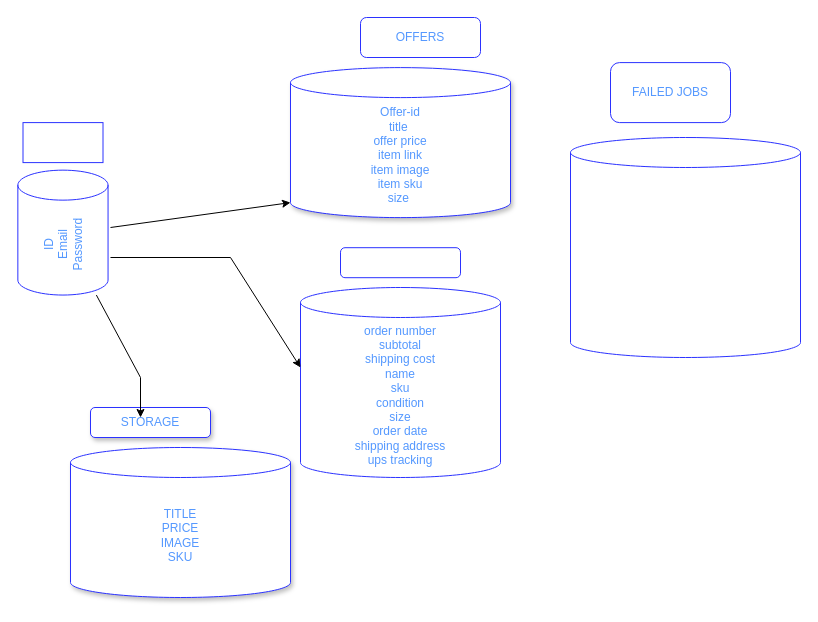
Some shapes in this 818 by 622 pixel diagram are drawn without their labels. The centre of each missing label's shape, as x and y in pixels:
account action: point 685,247
ACCOUNTS: point 62,142
orders: point 400,262
